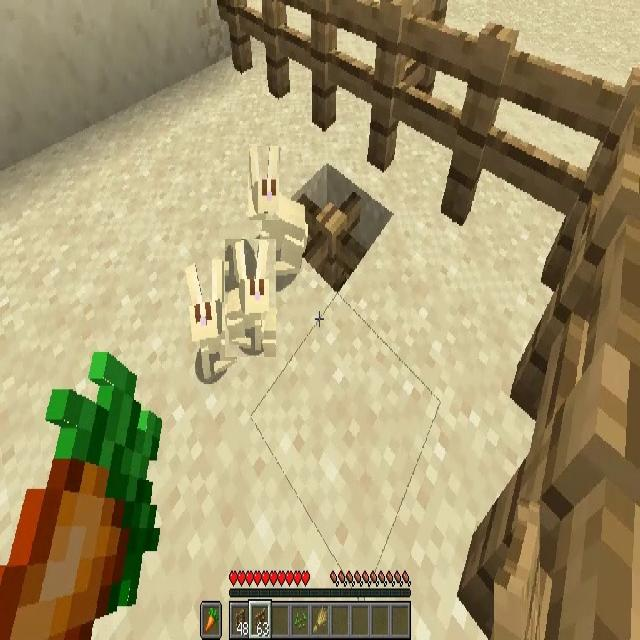rabbit: (225, 239, 276, 357), (191, 261, 228, 379), (249, 146, 279, 220)
